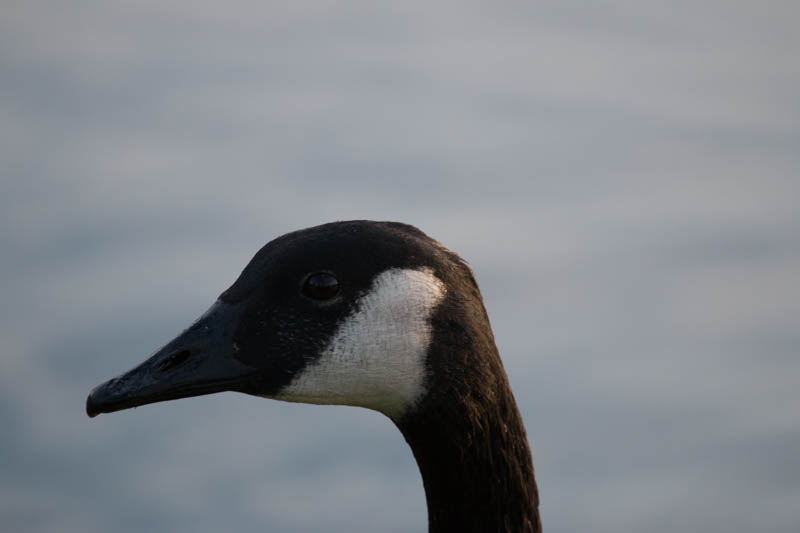goose-head: (86, 218, 498, 417)
